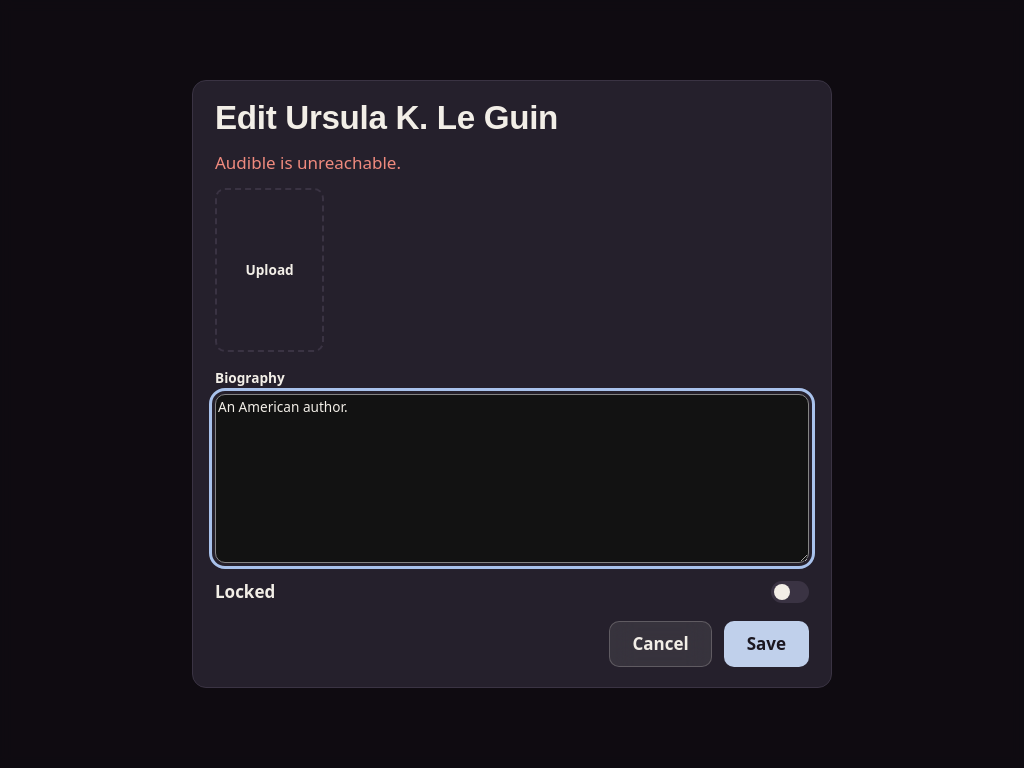
PersonEditor › says why the photos couldn’t load, and why a save failed
Expected: the text "Audible is unreachable." is shown, [215, 152, 401, 174]
Replace the text in the text box labelled "Biography" with "New words." at (512, 479), box [215, 394, 809, 563]
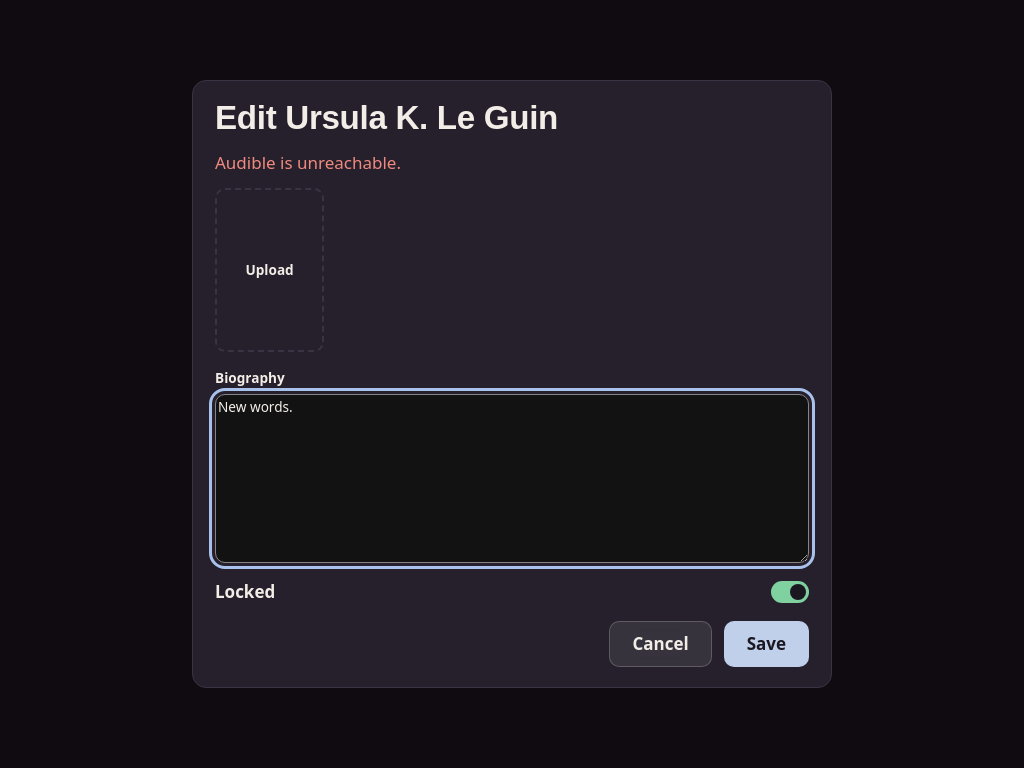
Click the button "Save" at (766, 644), box [724, 621, 809, 667]
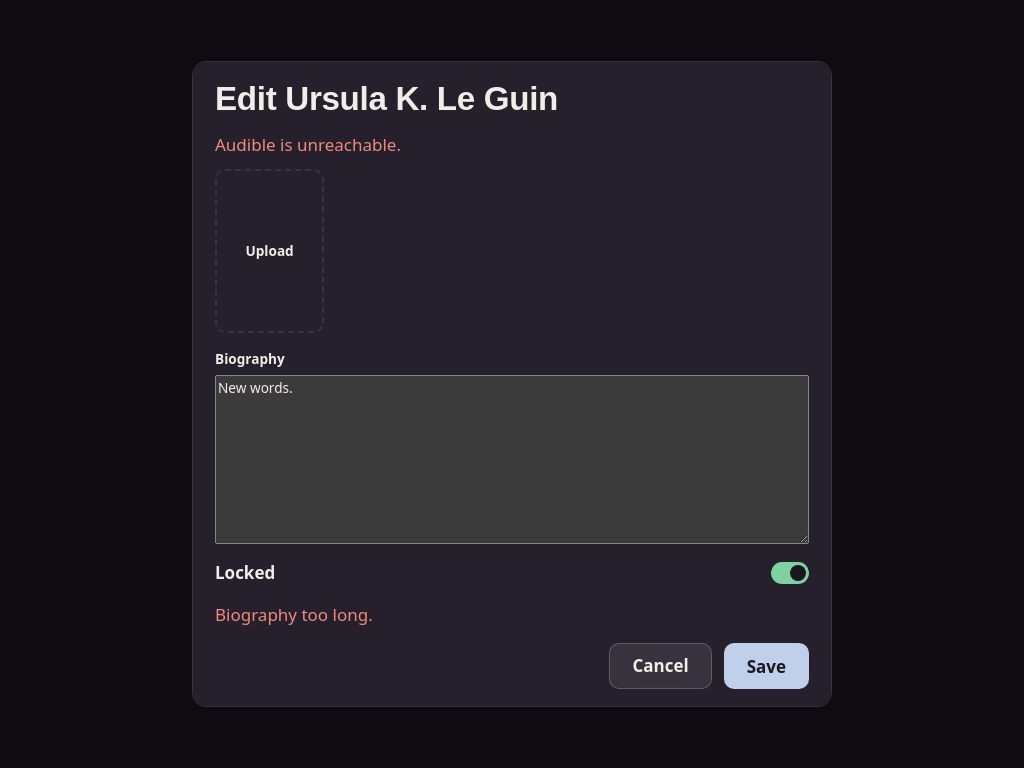
Result: the message "Biography too long." is shown at [215, 603, 373, 626]
